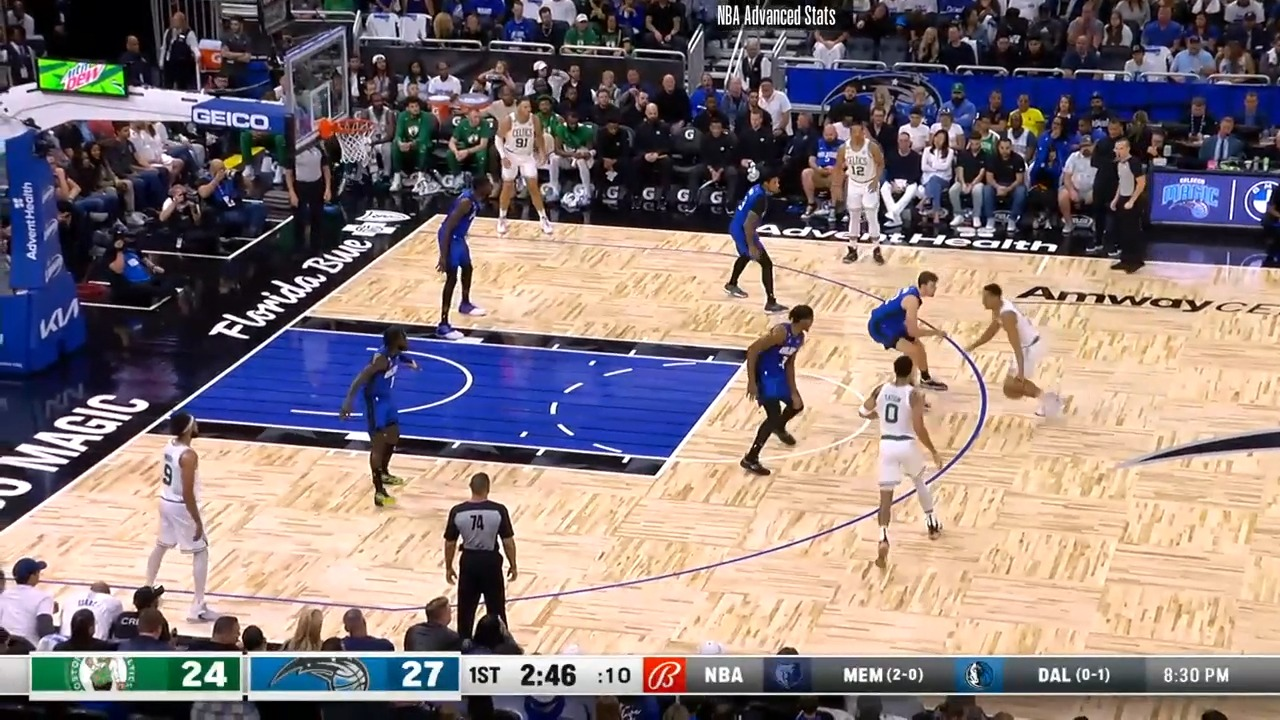net: (317, 113, 384, 167)
player: (133, 412, 226, 628), (855, 350, 945, 541), (344, 321, 430, 510), (733, 303, 821, 479), (968, 279, 1065, 415), (863, 270, 946, 397), (431, 174, 497, 333), (493, 89, 562, 240), (719, 171, 782, 309), (831, 123, 889, 267)
referee: (436, 471, 522, 644), (1102, 129, 1154, 272), (283, 127, 337, 258)
